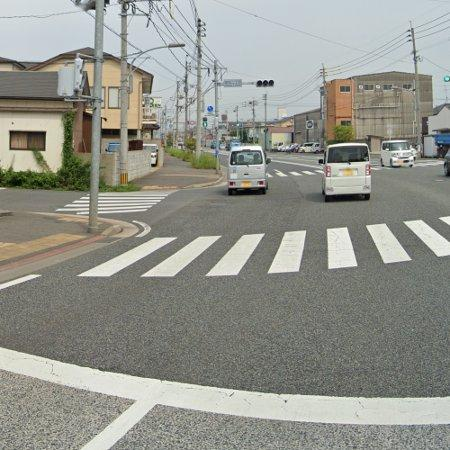crosswalks: (75, 210, 450, 277)
